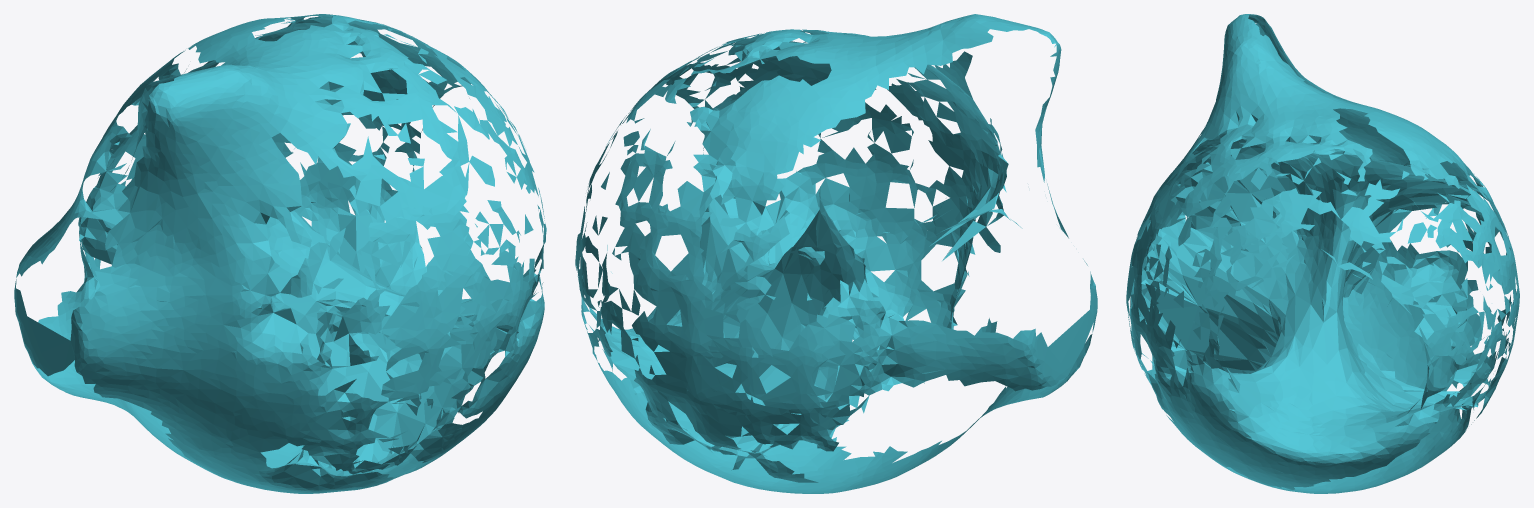
The picture shows the model from 3 angles, left to right: view 1: azimuth 30°, elevation 25°; view 2: azimuth 150°, elevation 25°; view 3: azimuth 270°, elevation 25°; orthographic projection. The views are drawn at different scales.
Visible parts, largest first — view 1: Renderer Node; view 2: Renderer Node; view 3: Renderer Node.
Part boxes in pixels (x1=…): Renderer Node: x1=14, y1=14, x2=546, y2=493; Renderer Node: x1=575, y1=14, x2=1097, y2=493; Renderer Node: x1=1126, y1=14, x2=1519, y2=493.
Bounding box in the file's own units: 0.5784 × 0.5865 × 0.545.
Materials: 1 (1 with a texture image).
